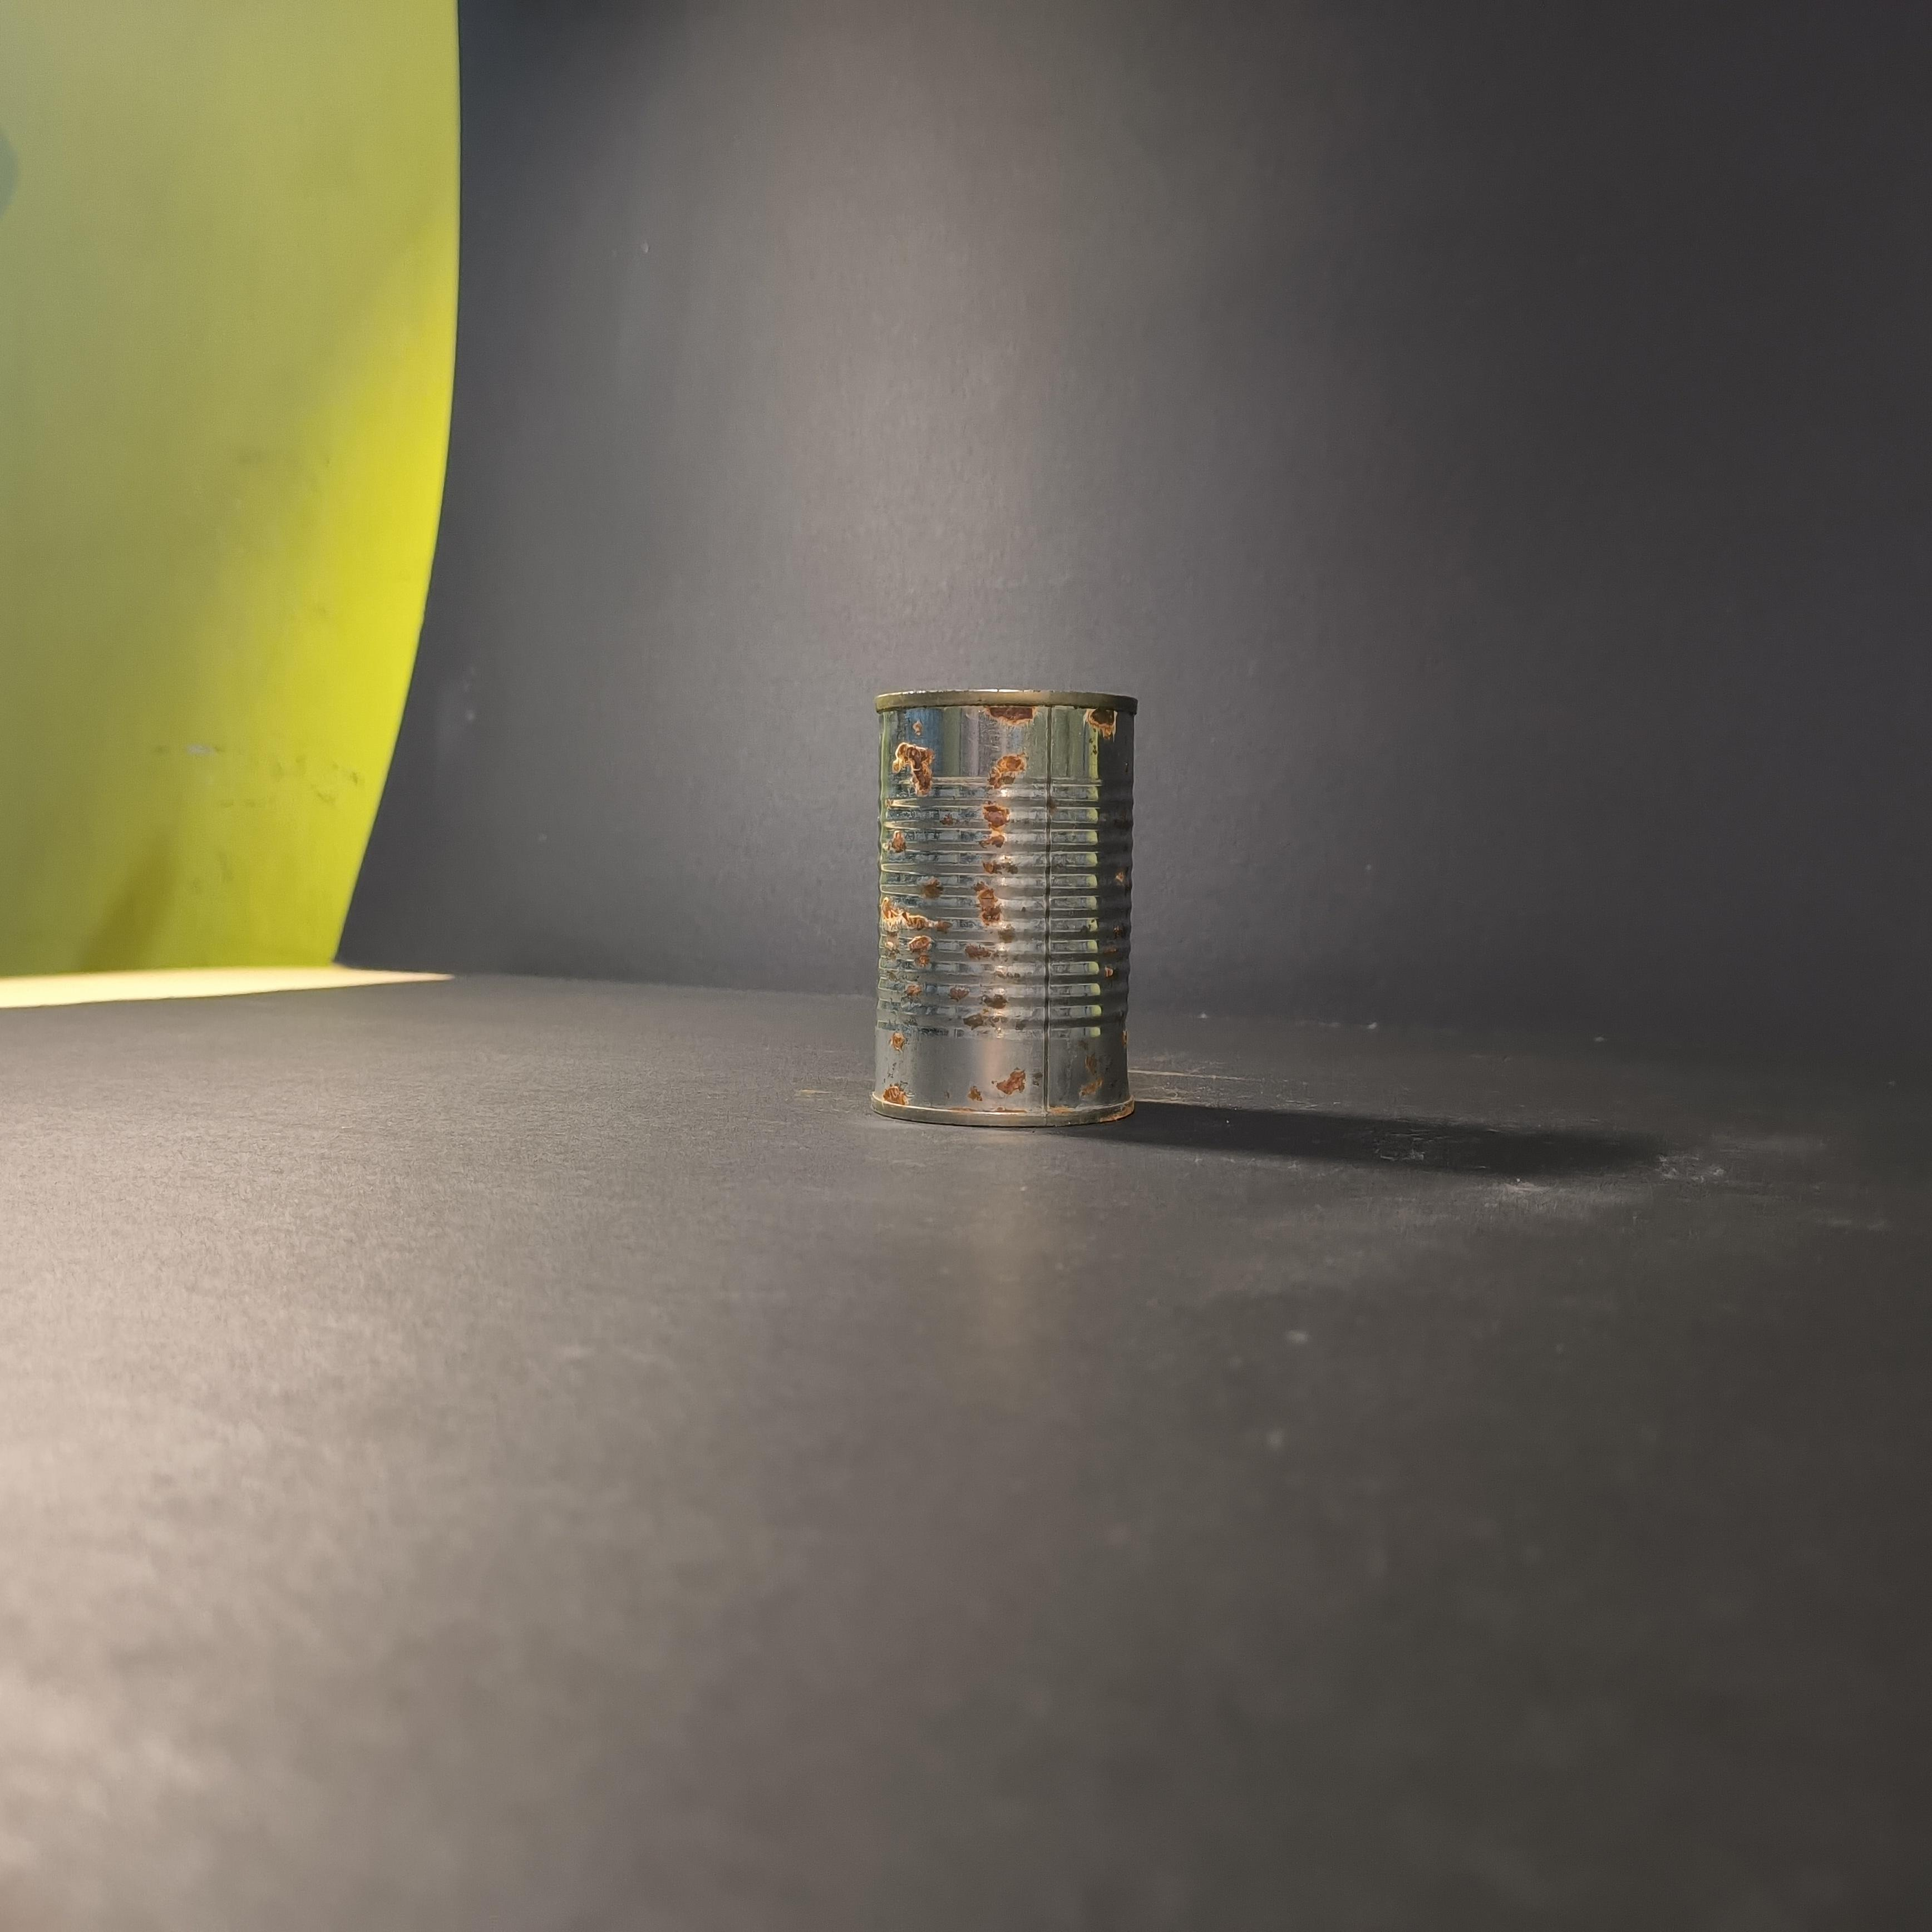Rusted: (860, 665, 1155, 1152)
